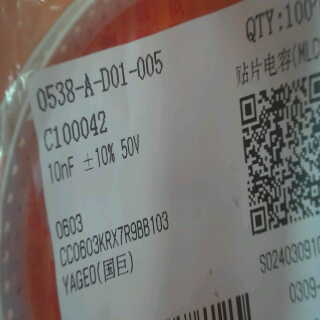10nF: (46, 152, 76, 186)
